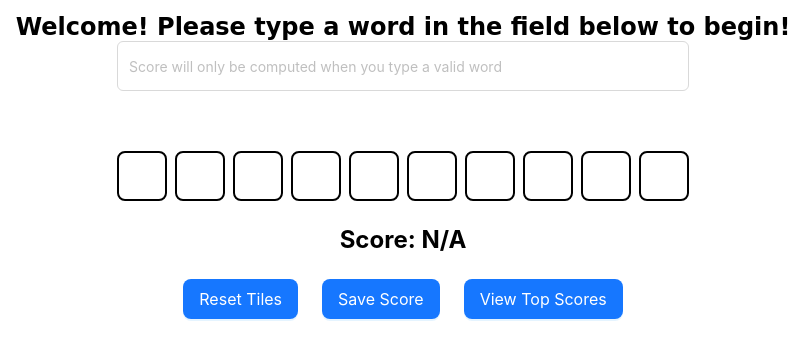
Test case: scoring › to give an accurate scoring of the word ambiguity (17 points)
The image size is (805, 338).
Type "ambiguity" into the field with test id "input-field" at (403, 66), box [117, 41, 689, 91]
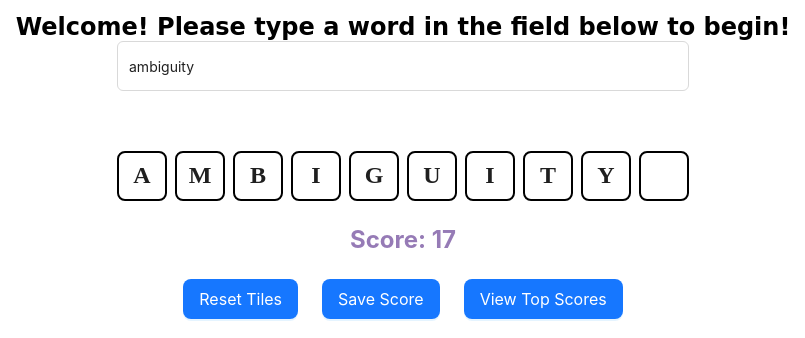
expect the element with test id "score" shows "17": met, box [432, 225, 456, 254]
